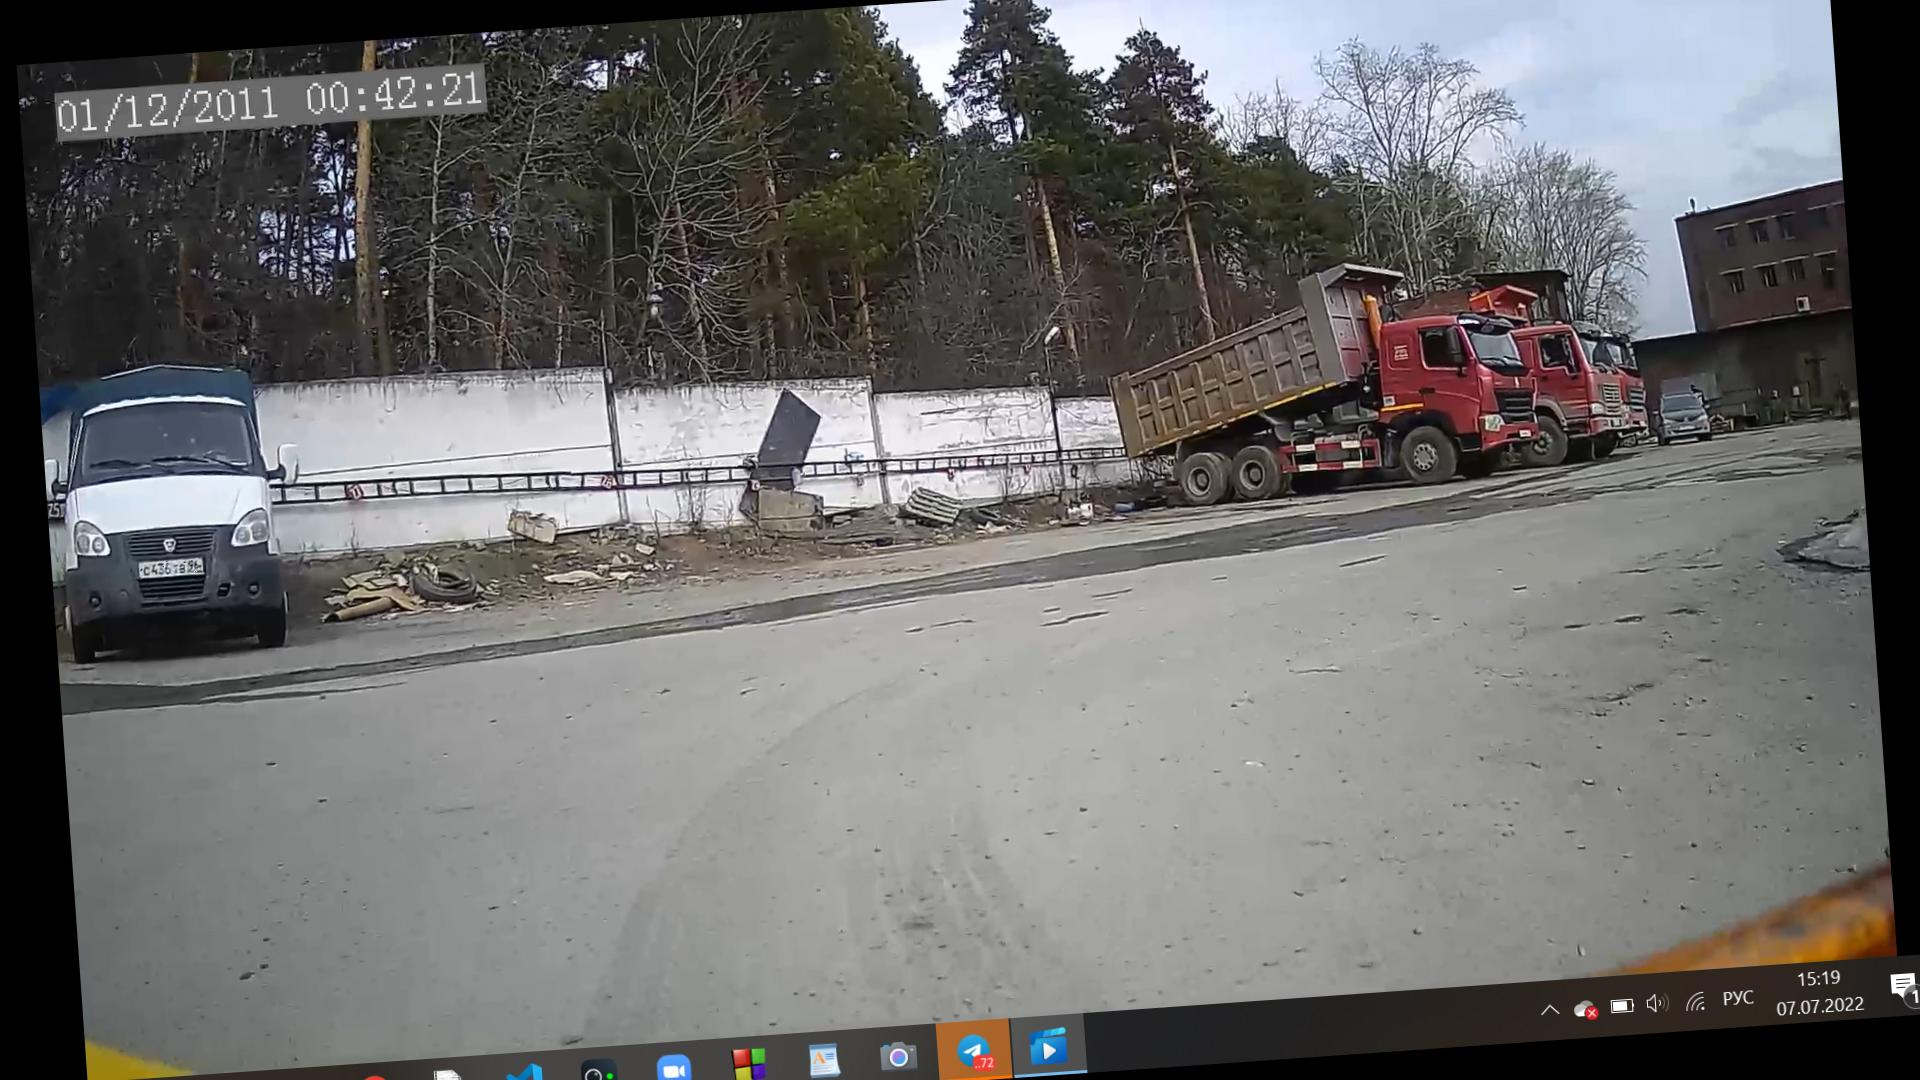plate: (140, 558, 208, 577)
